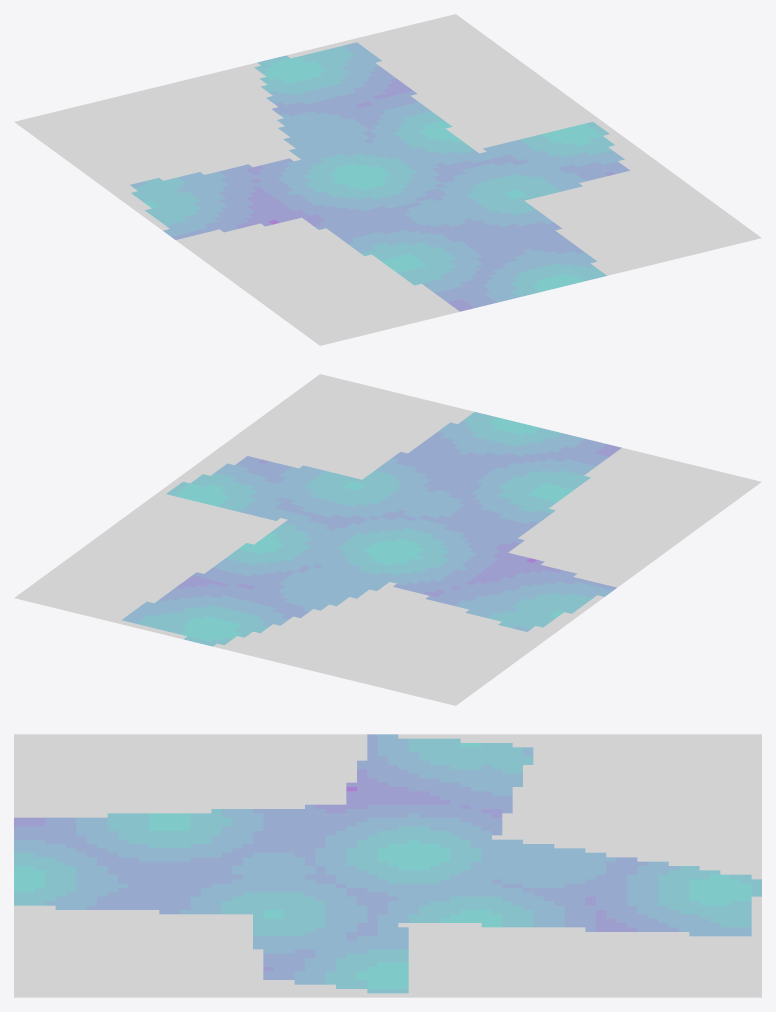
The model's file is myOutput.gltf.
The picture shows the model from 3 angles, top to bottom: view 1: azimuth 30°, elevation 25°; view 2: azimuth 150°, elevation 25°; view 3: azimuth 270°, elevation 25°; orthographic projection. The views are drawn at different scales.
Visible parts, largest first — view 1: a539c998-dc75-4b94-a8e2-db8469cbec28_mesh; view 2: a539c998-dc75-4b94-a8e2-db8469cbec28_mesh; view 3: a539c998-dc75-4b94-a8e2-db8469cbec28_mesh.
Boxes of the visible parts, x1,y1,x2,y2 form: a539c998-dc75-4b94-a8e2-db8469cbec28_mesh: [14, 14, 761, 345]; a539c998-dc75-4b94-a8e2-db8469cbec28_mesh: [14, 374, 761, 705]; a539c998-dc75-4b94-a8e2-db8469cbec28_mesh: [14, 734, 761, 997].
Size of the model in its own units: 180 by 1.32e-14 by 216.
